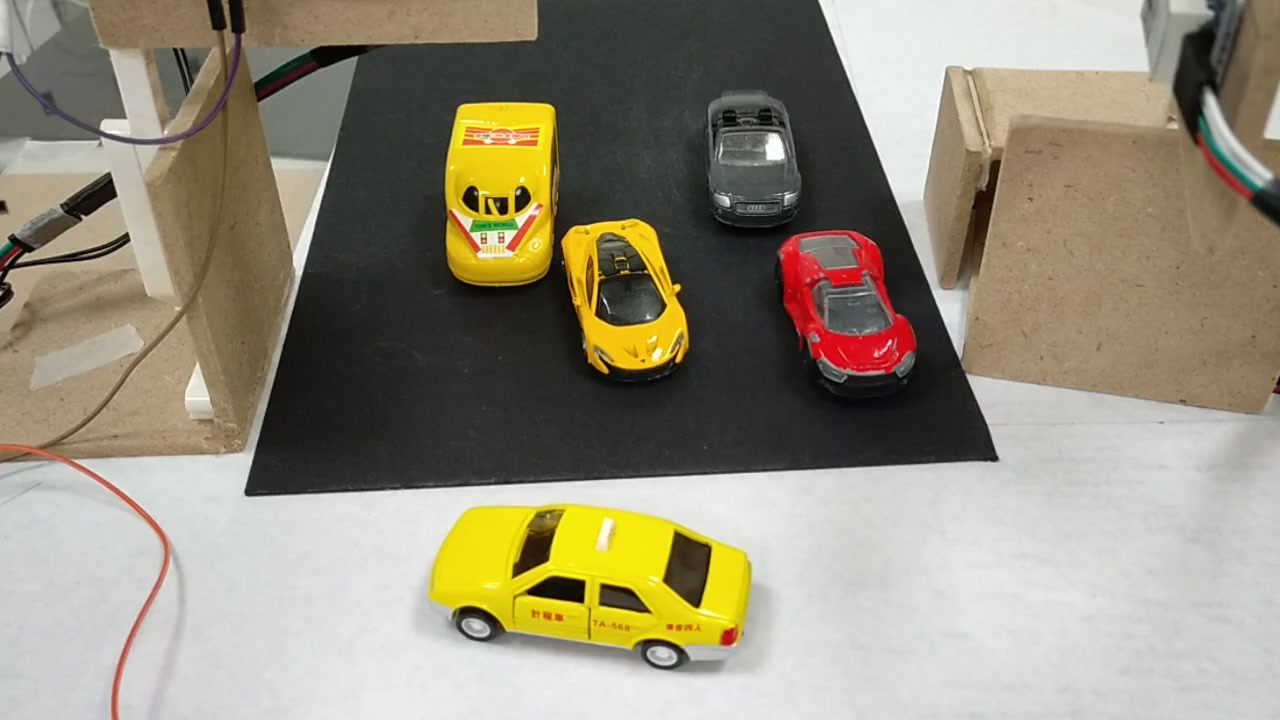car: (423, 510, 754, 673), (780, 226, 921, 399), (558, 222, 698, 387), (701, 87, 803, 224)
